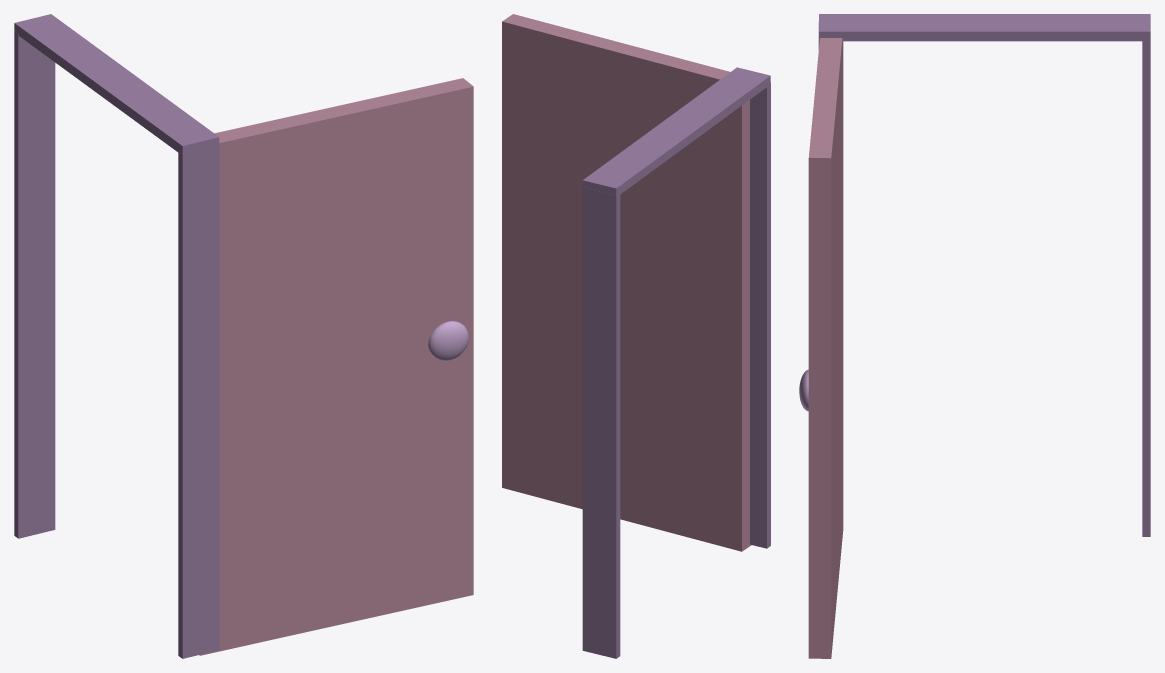
File: DoorOpen.fbx
The picture shows the model from 3 angles, left to right: view 1: azimuth 30°, elevation 25°; view 2: azimuth 150°, elevation 25°; view 3: azimuth 270°, elevation 25°; orthographic projection. The views are drawn at different scales.
Visible parts, largest first — view 1: Door, DoorFrame, DoorKnob; view 2: Door, DoorFrame; view 3: Door, DoorFrame.
Part boxes in pixels (<box>): Door: <box>199,78,473,655</box>; DoorFrame: <box>14,14,219,658</box>; DoorKnob: <box>428,321,468,360</box>; Door: <box>502,14,751,551</box>; DoorFrame: <box>582,67,770,658</box>; Door: <box>808,38,843,658</box>; DoorFrame: <box>818,14,1150,536</box>.
Size of the model in its own units: 2.65 by 4.54 by 2.85.
